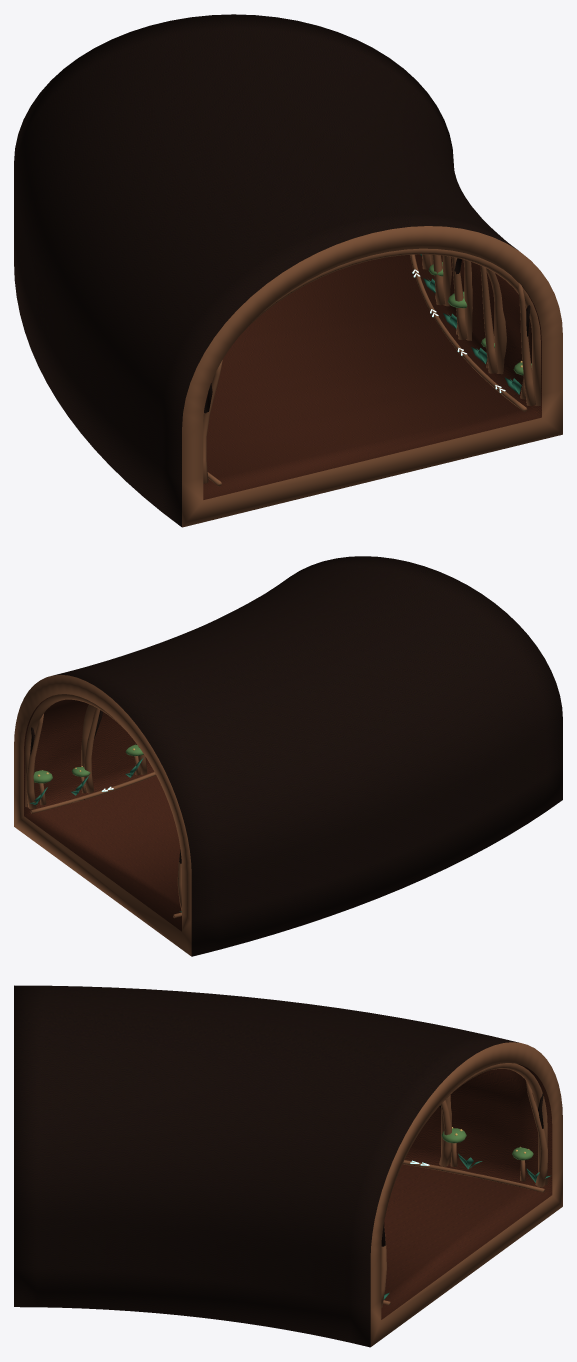
Rendered from curve_right_30.glb.
The picture shows the model from 3 angles, top to bottom: view 1: azimuth 30°, elevation 25°; view 2: azimuth 150°, elevation 25°; view 3: azimuth 270°, elevation 25°; orthographic projection. The views are drawn at different scales.
Parts seen in each view (by area): view 1: TunnelGeometry; view 2: TunnelGeometry; view 3: TunnelGeometry.
Part boxes in pixels (x1,y1,x2,y2): TunnelGeometry: [14, 14, 562, 527]; TunnelGeometry: [14, 556, 562, 956]; TunnelGeometry: [14, 985, 562, 1347].
Bounding box in the file's own units: 19.1 × 9.52 × 21.83.
Materials: 7 (2 with a texture image).
